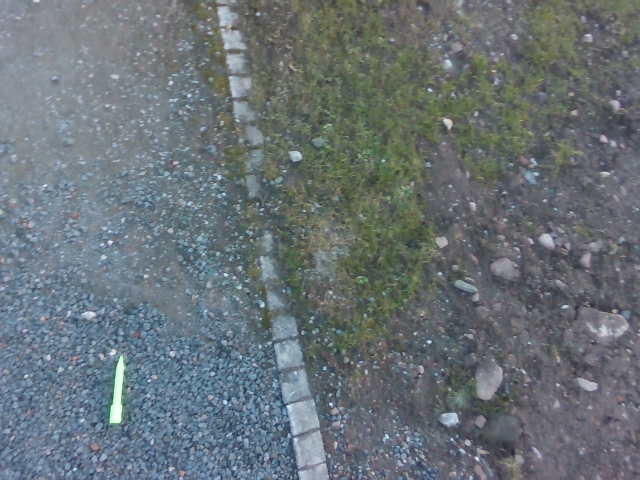Probe: (106, 351, 127, 429)
